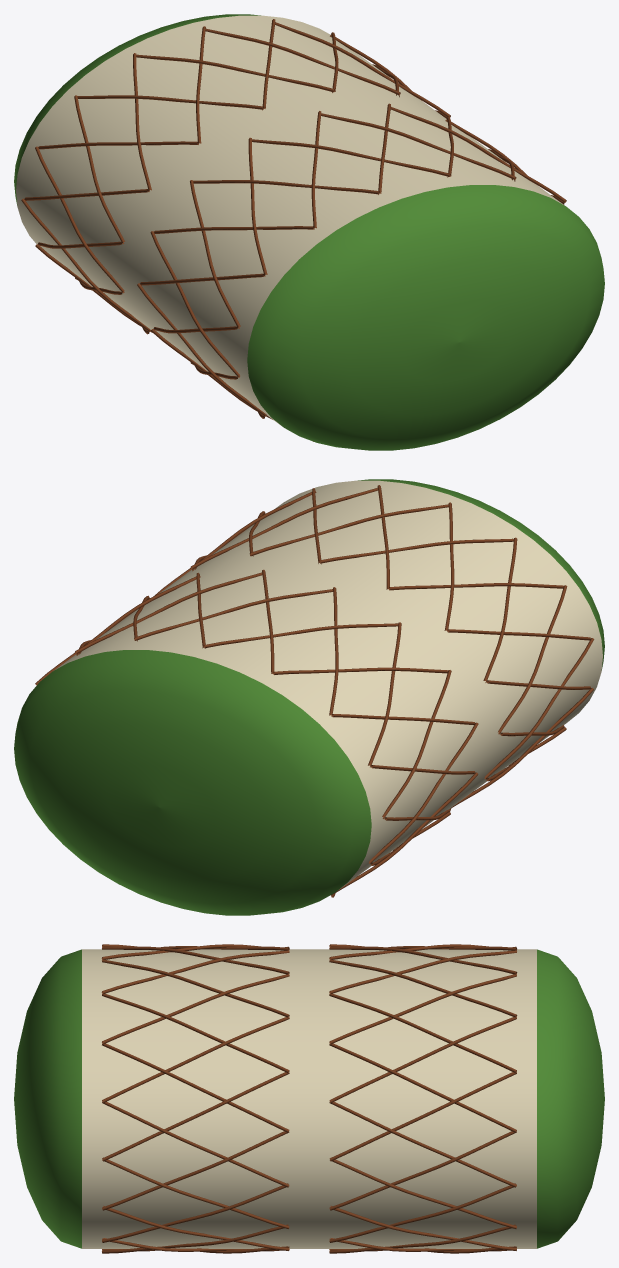
The model's file is pod100_hull.obj.
3 renders of one model, top to bottom at view 1: azimuth 30°, elevation 25°; view 2: azimuth 150°, elevation 25°; view 3: azimuth 270°, elevation 25°, orthographic.
Parts seen in each view (by area): view 1: pod100_hull; view 2: pod100_hull; view 3: pod100_hull.
Boxes of the visible parts, x1,y1,x2,y2 form: pod100_hull: (14, 14, 604, 450); pod100_hull: (14, 479, 604, 915); pod100_hull: (14, 944, 604, 1253).
Size of the model in its own units: 7.04 by 4.75 by 10.
